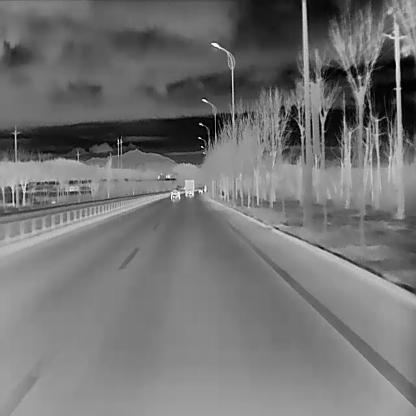car: (183, 177, 193, 195), (170, 187, 180, 199), (197, 186, 203, 193)
